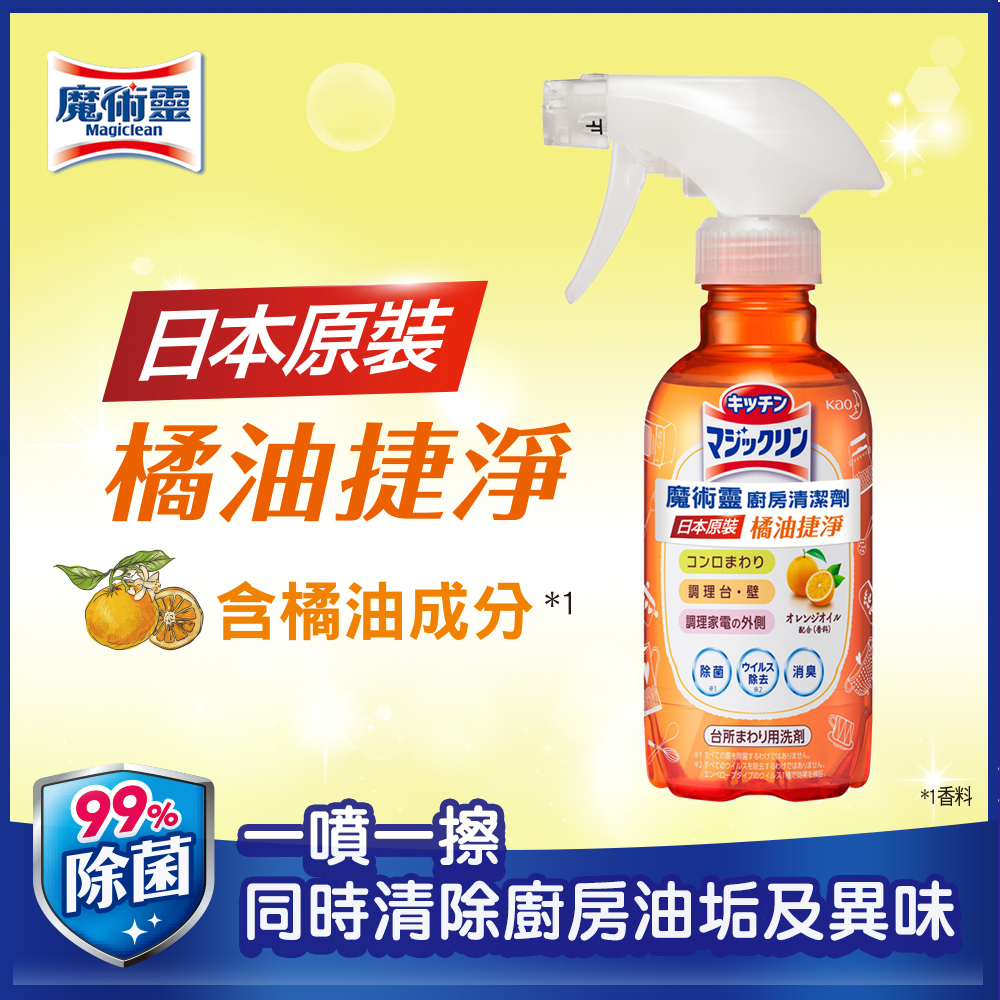cleaner: (543, 65, 885, 805)
